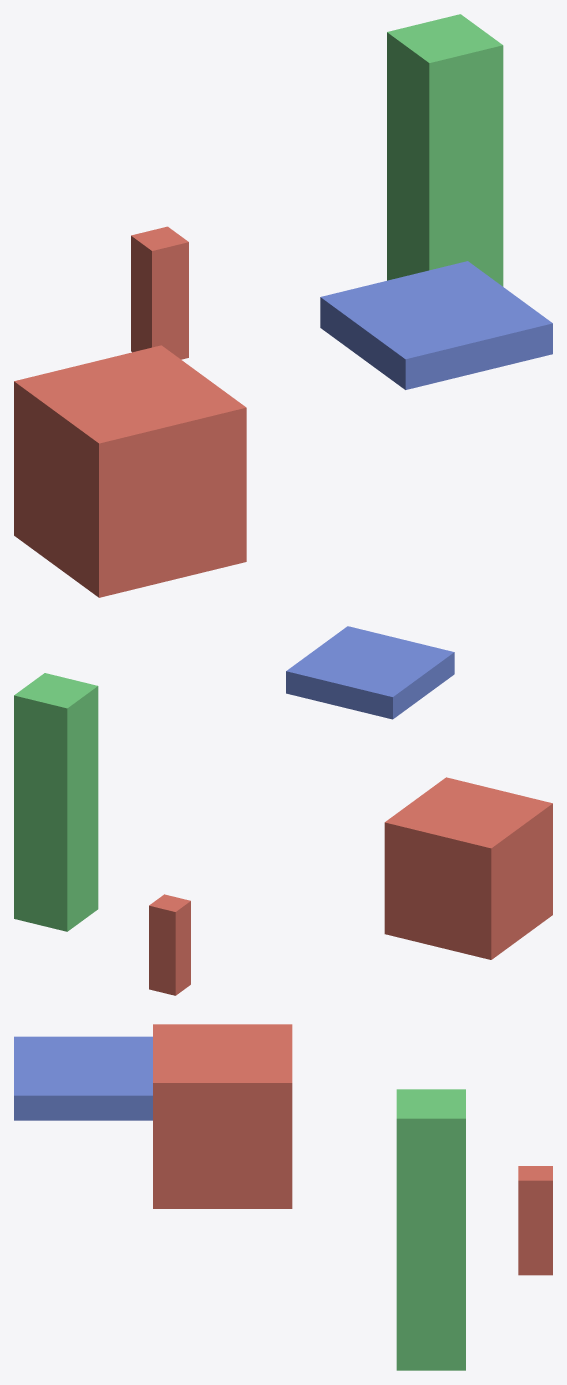
Rendered from ShadowScene.gltf.
3 views of the same model, one above another, from view 1: azimuth 30°, elevation 25°; view 2: azimuth 150°, elevation 25°; view 3: azimuth 270°, elevation 25° (orthographic). The views are drawn at different scales.
Parts seen in each view (by area): view 1: cube, column, floating, post; view 2: cube, column, floating, post; view 3: cube, column, floating, post.
Boxes of the visible parts, left/top/right/bottom form: cube: left=14, top=345, right=246, bottom=597; column: left=387, top=14, right=503, bottom=286; floating: left=320, top=261, right=552, bottom=389; post: left=131, top=226, right=188, bottom=359; cube: left=384, top=777, right=552, bottom=959; column: left=14, top=673, right=98, bottom=931; floating: left=286, top=626, right=454, bottom=719; post: left=149, top=894, right=190, bottom=995; cube: left=153, top=1024, right=292, bottom=1208; column: left=396, top=1089, right=465, bottom=1370; floating: left=14, top=1036, right=152, bottom=1120; post: left=518, top=1166, right=552, bottom=1275.
Size of what is drawn, in the model's own units: 7.5 by 4 by 7.75.
